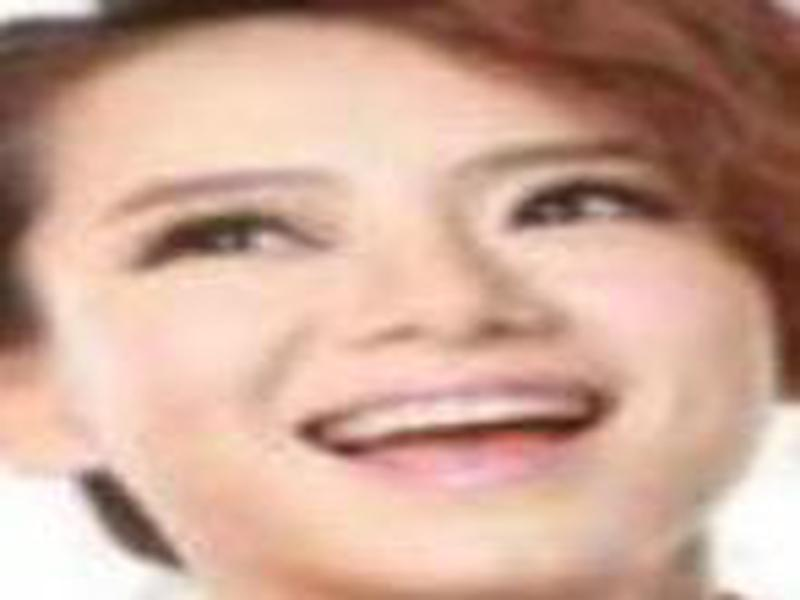without_mask: (17, 88, 776, 584)
